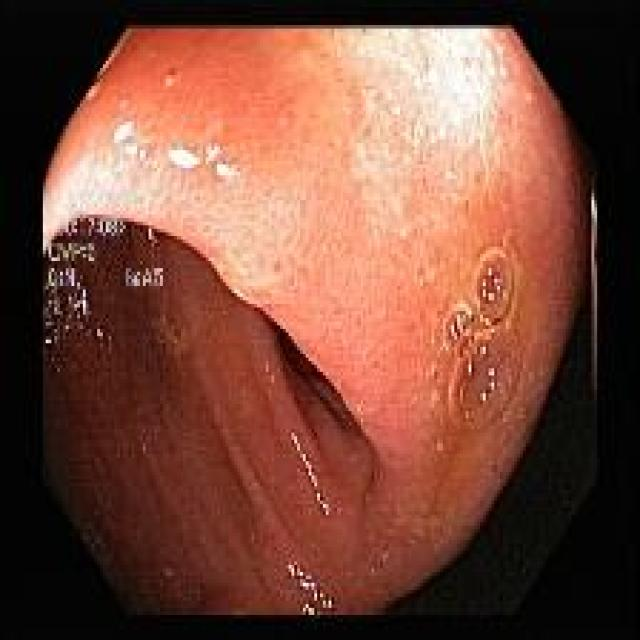ulcerative-colitis: (44, 28, 588, 526)
